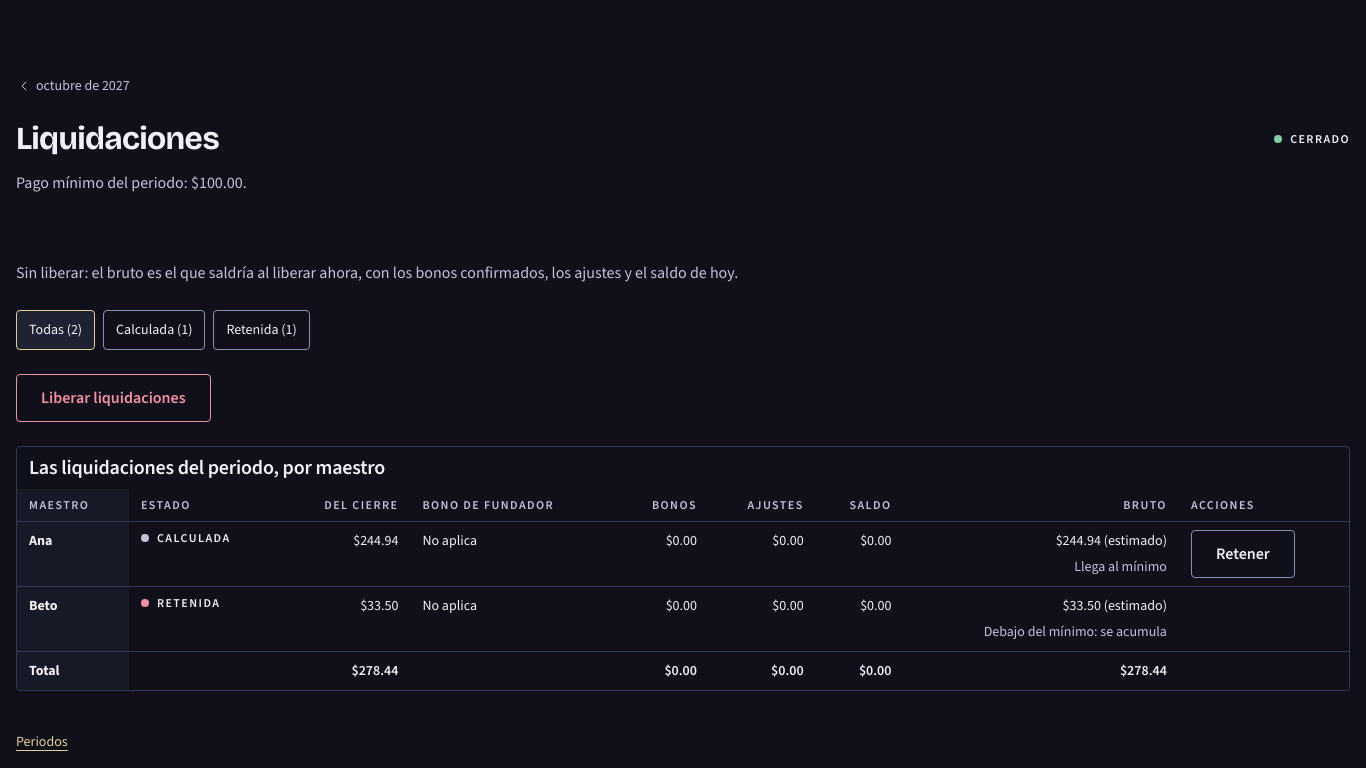
Scenario: PA-81, las liquidaciones del periodo › mientras se pregunta liberar, la tabla muestra todas, aunque haya un filtro puesto
Click the button "Retenida (1)": (262, 330) [213,310,310,350]
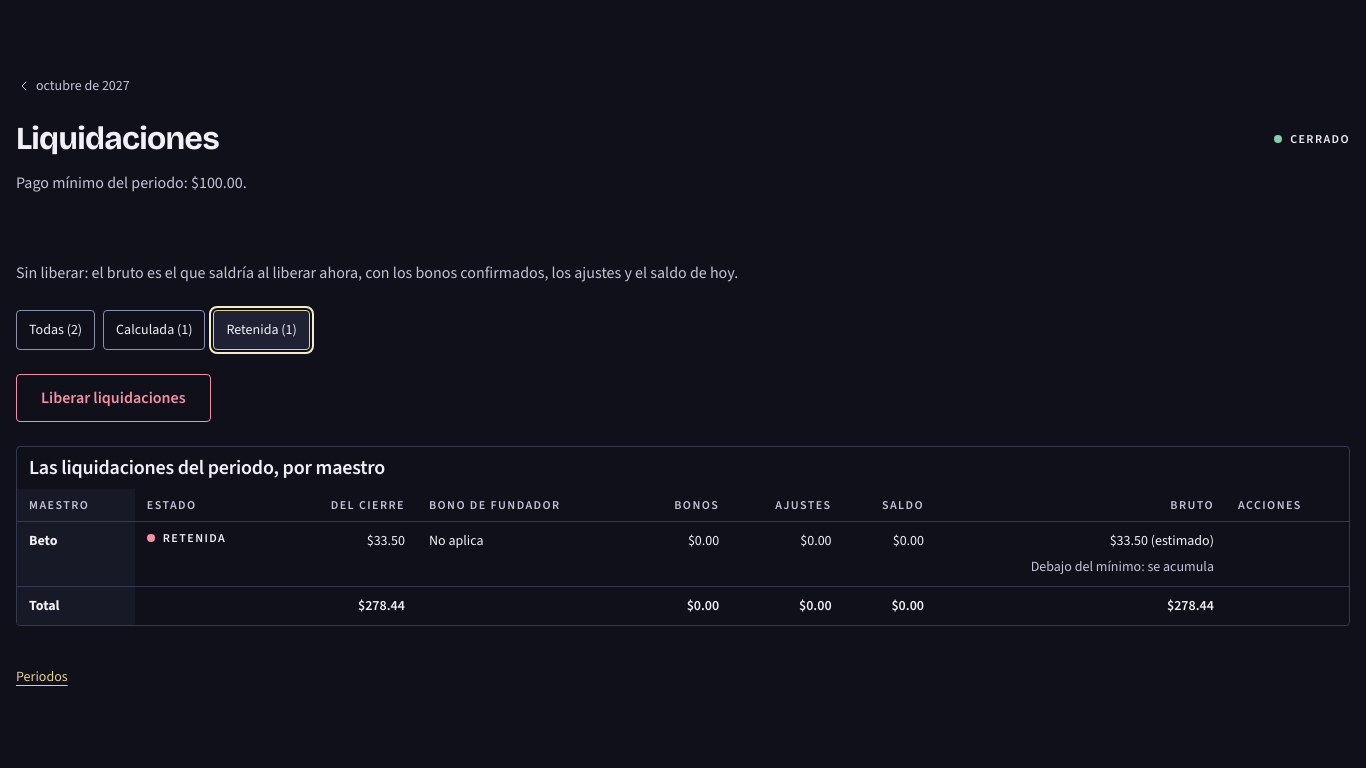
Result: the column heading "Ana" is gone
Click the button "Liberar liquidaciones": (113, 398) [16,374,211,422]
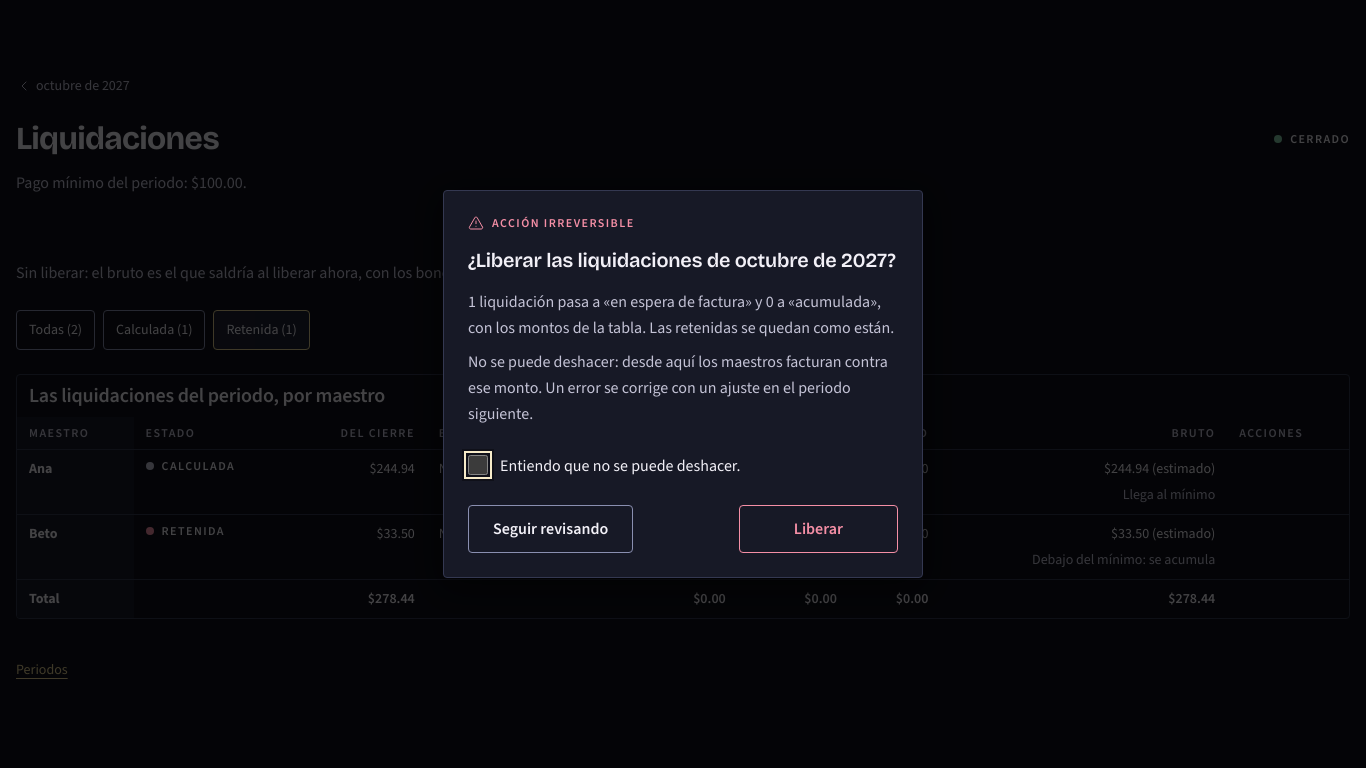
Result: the dialog is shown at [443,190,923,578]
Result: the column heading "Ana" is shown at [17,450,134,514]
